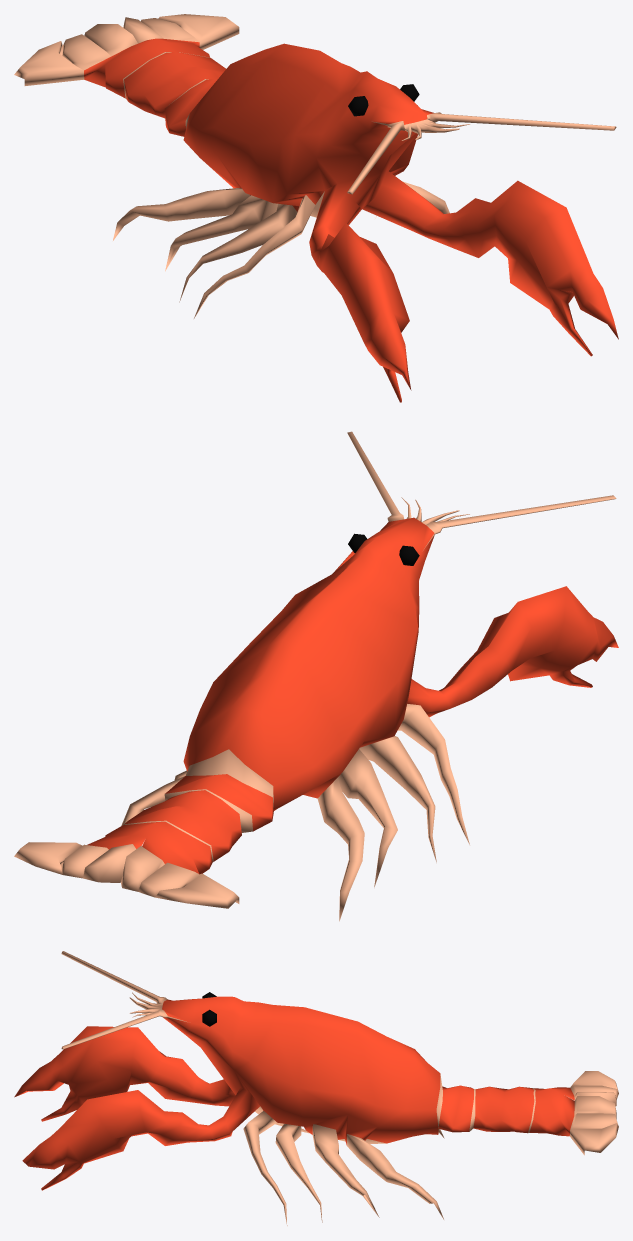
File: ct4Z0kUIHdT.glb
3 views of the same model, one above another, from view 1: azimuth 30°, elevation 25°; view 2: azimuth 150°, elevation 25°; view 3: azimuth 270°, elevation 25° (orthographic). The views are drawn at different scales.
Parts seen in each view (by area): view 1: CRAYFISH.1; view 2: CRAYFISH.1; view 3: CRAYFISH.1.
Part boxes in pixels (bbox=[...]): CRAYFISH.1: bbox=[14, 14, 618, 402]; CRAYFISH.1: bbox=[14, 431, 618, 921]; CRAYFISH.1: bbox=[14, 951, 618, 1225].
Bounding box in the file's own units: 1.17 × 0.9999 × 2.98.
